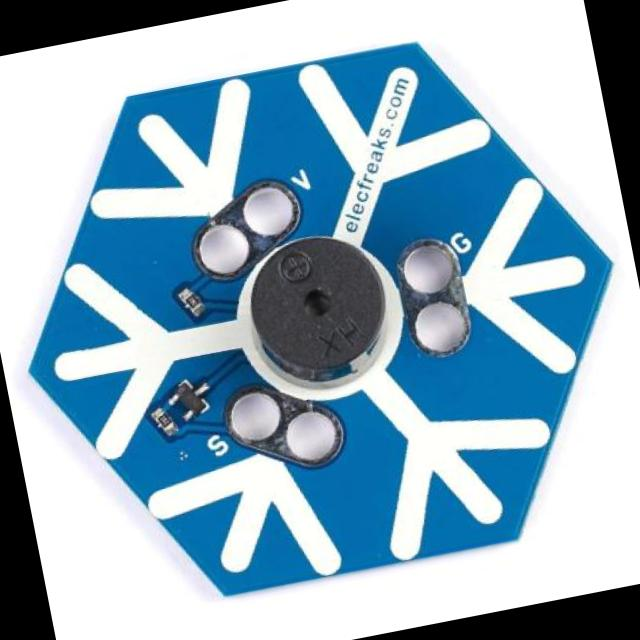resistor: (181, 291, 207, 317), (153, 408, 176, 437)
transistor: (166, 375, 213, 426)
